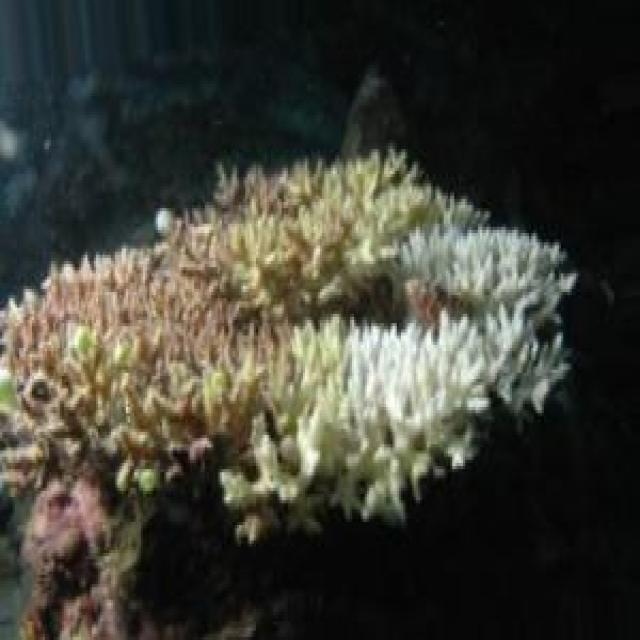bleached coral: (266, 308, 509, 529), (394, 198, 575, 414)
healthy coral: (6, 240, 251, 422)
